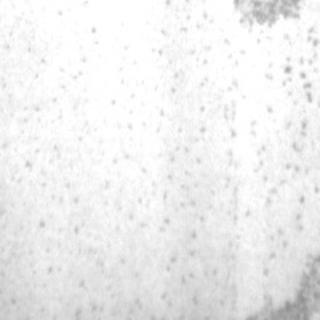pitted_surface: (7, 17, 114, 306), (139, 1, 233, 316), (256, 26, 316, 242), (248, 252, 318, 316), (230, 0, 302, 30)
